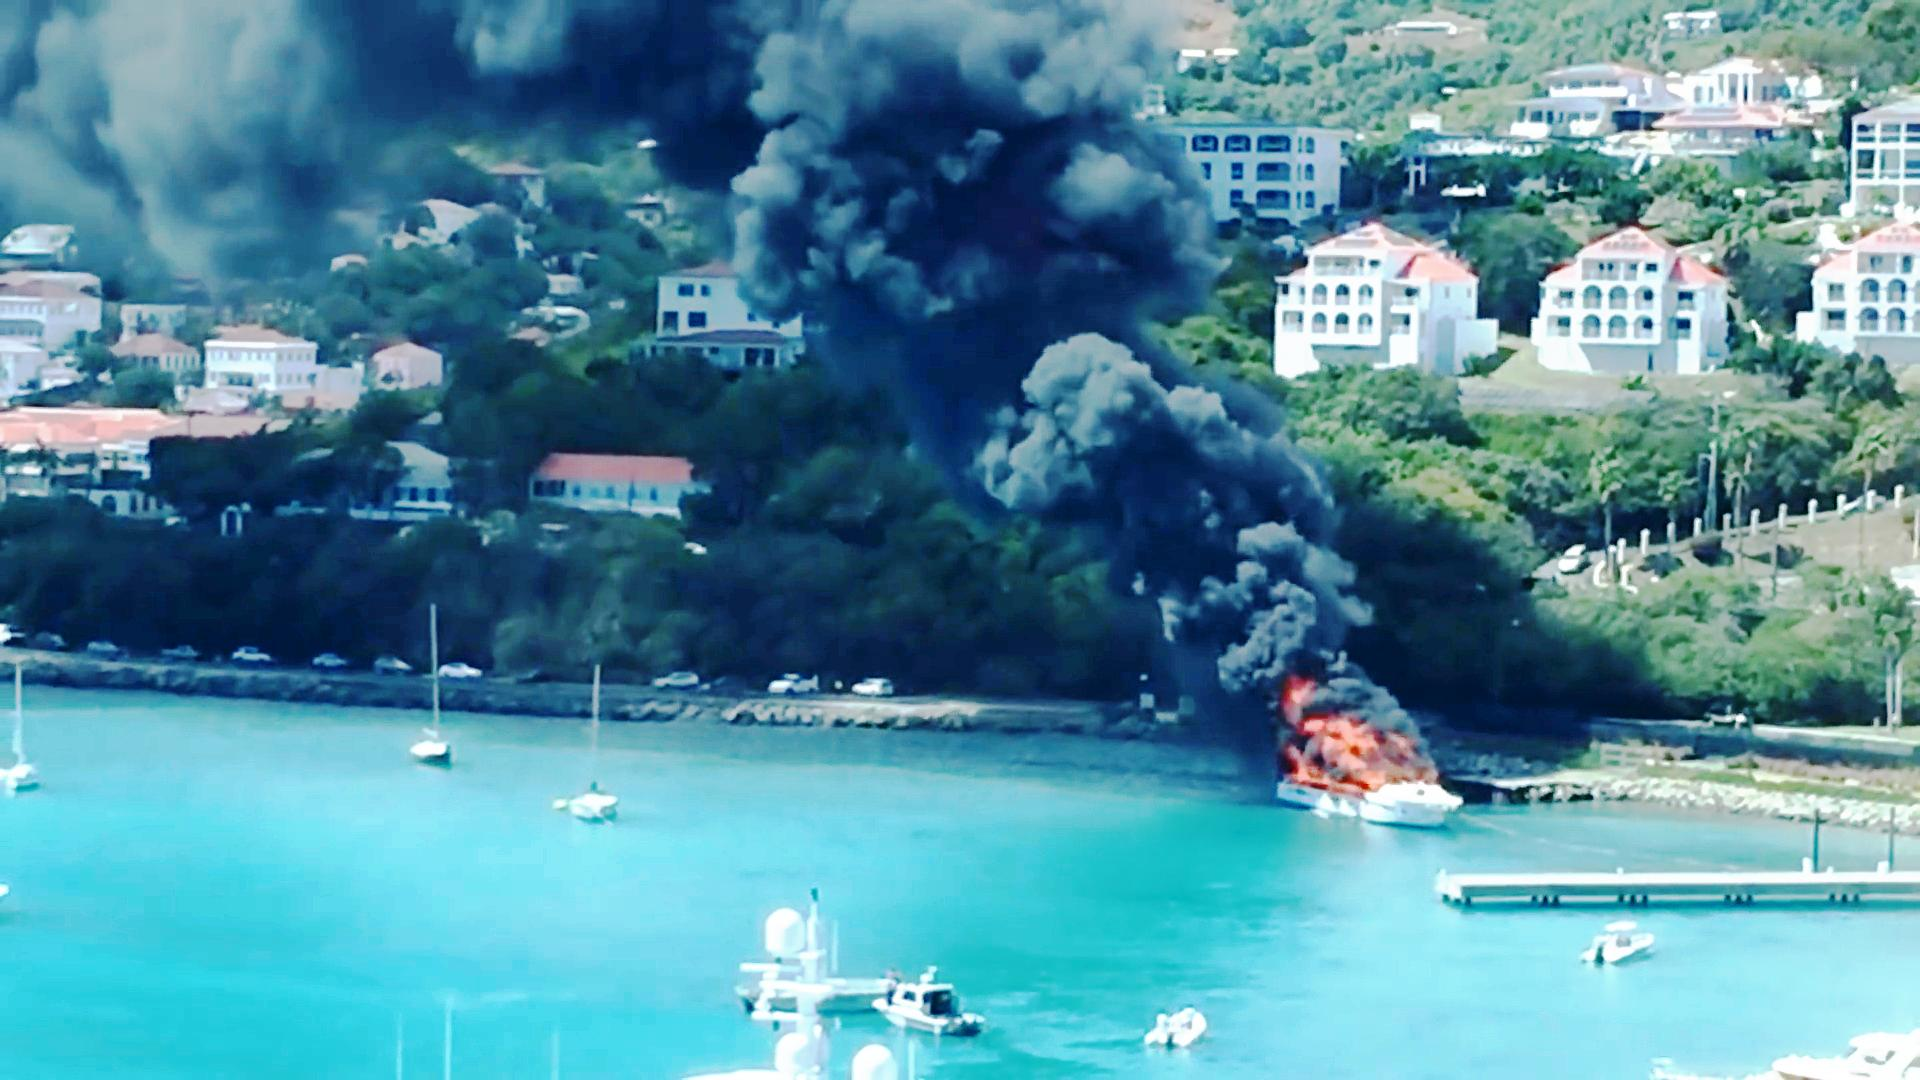smoke: (725, 0, 1237, 323), (0, 0, 378, 223), (976, 334, 1309, 571), (1160, 518, 1349, 684)
